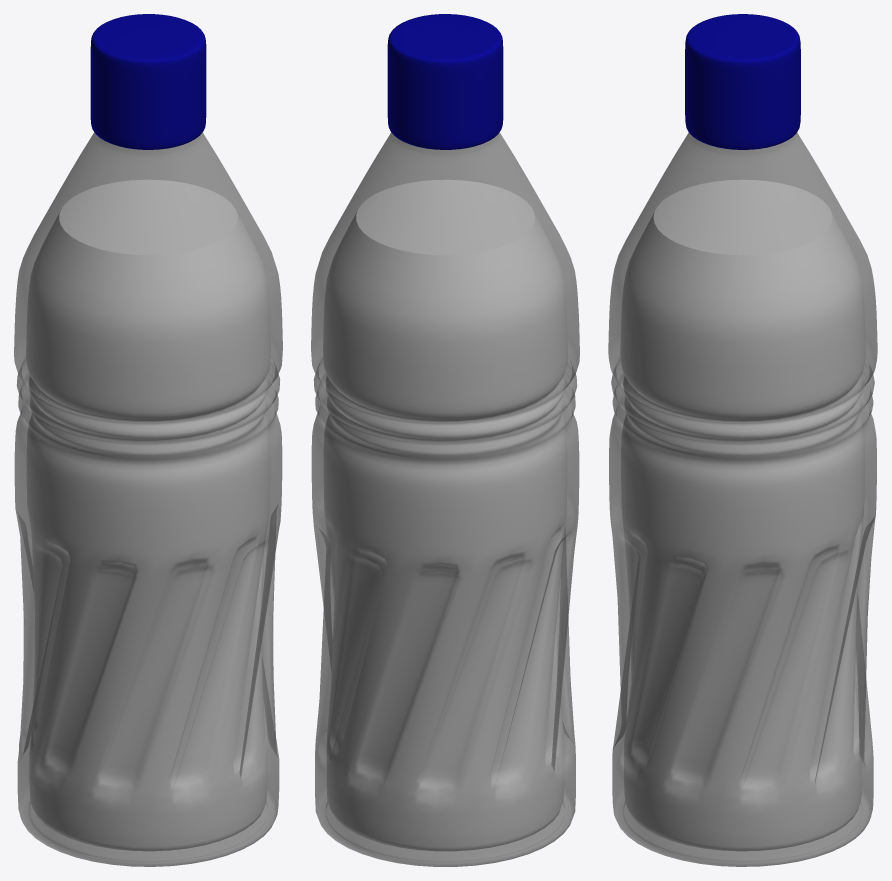
The model's file is Water bottle.fbx.
3 views of the same model, side by side, from view 1: azimuth 30°, elevation 25°; view 2: azimuth 150°, elevation 25°; view 3: azimuth 270°, elevation 25° (orthographic).
Parts seen in each view (by area): view 1: Waterbottle; view 2: Waterbottle; view 3: Waterbottle.
Part boxes in pixels (bbox=[...]): Waterbottle: bbox=[14, 14, 282, 866]; Waterbottle: bbox=[311, 14, 579, 866]; Waterbottle: bbox=[608, 14, 877, 866].
Bounding box in the file's own units: 14.48 × 46.09 × 14.48.
